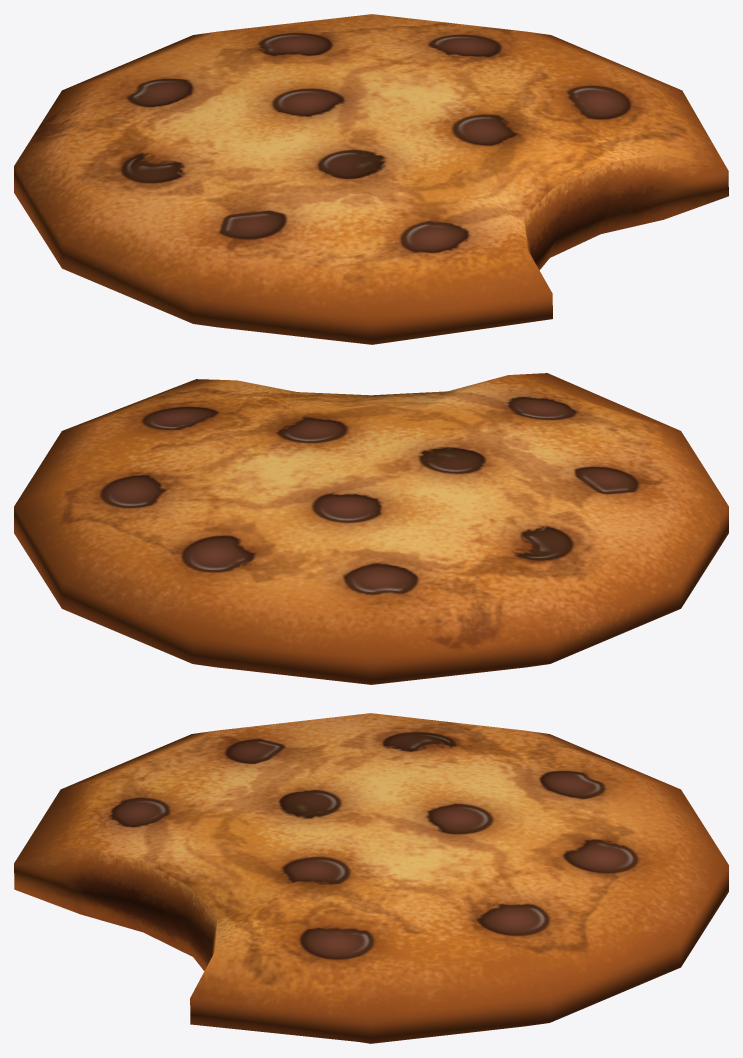
The model's file is Cookie_01_Bitten.fbx.
3 views of the same model, one above another, from view 1: azimuth 30°, elevation 25°; view 2: azimuth 150°, elevation 25°; view 3: azimuth 270°, elevation 25° (orthographic).
Parts seen in each view (by area): view 1: Cookie_01_Bitten; view 2: Cookie_01_Bitten; view 3: Cookie_01_Bitten.
Part boxes in pixels (x1=…): Cookie_01_Bitten: x1=14, y1=14, x2=728, y2=344; Cookie_01_Bitten: x1=14, y1=373, x2=728, y2=684; Cookie_01_Bitten: x1=14, y1=713, x2=728, y2=1043.
Bounding box in the file's own units: 63.45 × 8.89 × 63.33.
